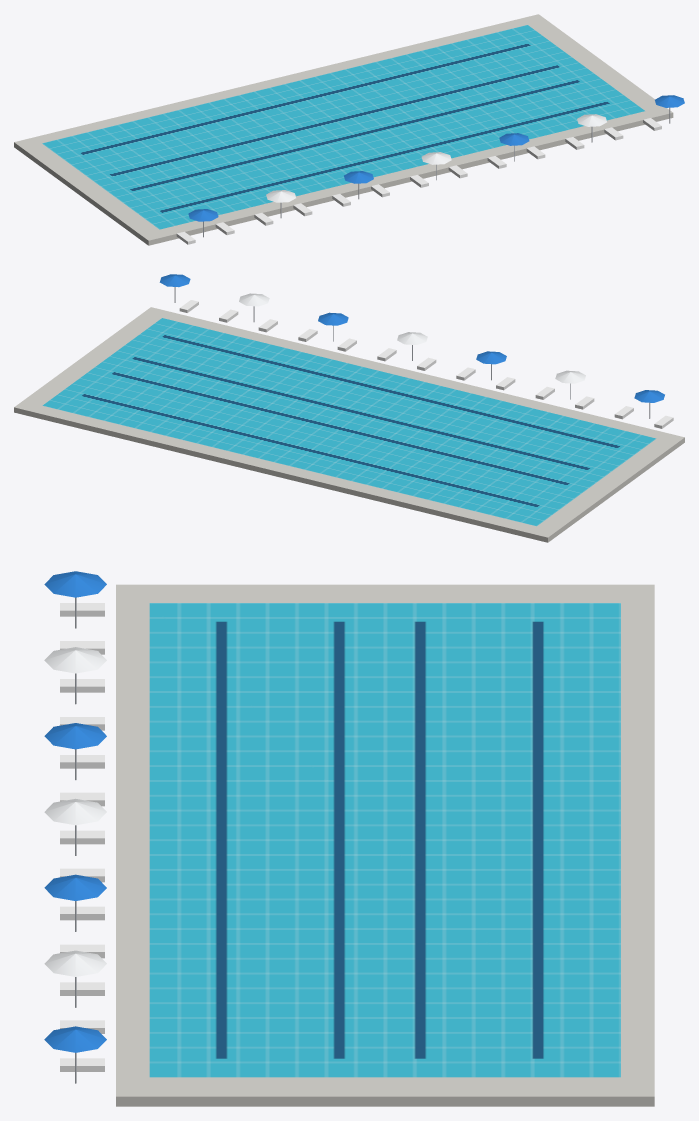
Rendered from swimming_pool.glb.
The picture shows the model from 3 angles, top to bottom: view 1: azimuth 30°, elevation 25°; view 2: azimuth 150°, elevation 25°; view 3: azimuth 270°, elevation 25°; orthographic projection. The views are drawn at different scales.
Visible parts, largest first — view 1: pool; view 2: pool; view 3: pool.
Boxes of the visible parts, x1,y1,x2,y2 form: pool: (14, 14, 684, 245); pool: (14, 274, 684, 542); pool: (44, 571, 654, 1106).
Bounding box in the file's own units: 54 × 3.15 × 27.2.
6 materials, 1 textured.
